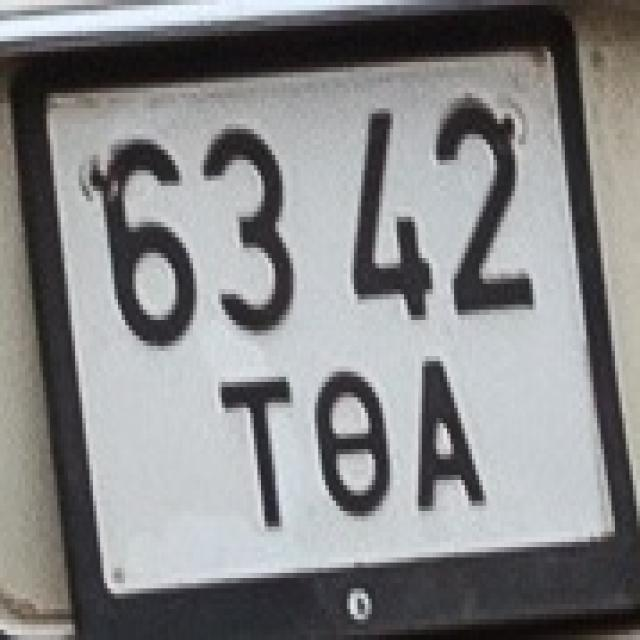2: (418, 88, 540, 315)
3: (186, 114, 304, 336)
4: (328, 93, 436, 320)
6: (82, 124, 200, 341)
8: (297, 356, 397, 516)
A: (386, 346, 489, 511)
T: (208, 366, 300, 526)
